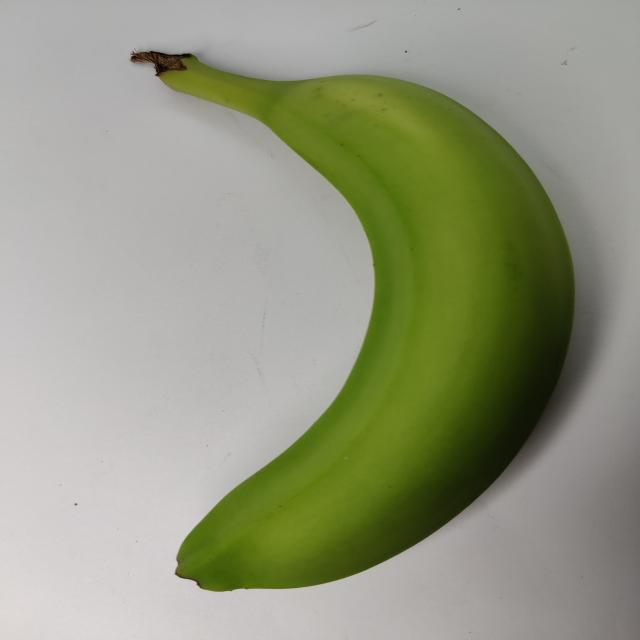raw: (81, 32, 612, 611)
